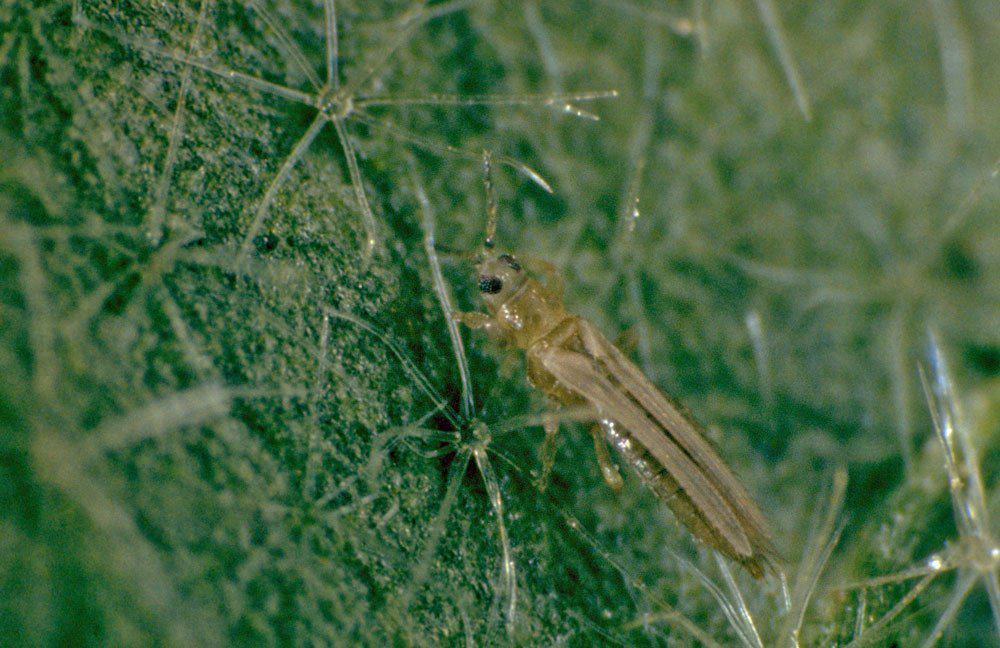tiny_pests: (390, 138, 800, 593)
